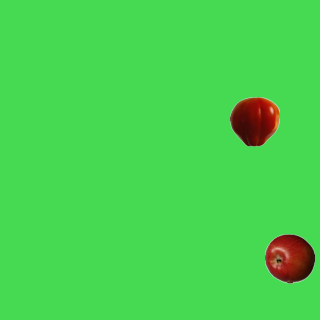Apple Braeburn: (264, 233, 314, 283)
Tomato 1: (229, 96, 279, 146)
